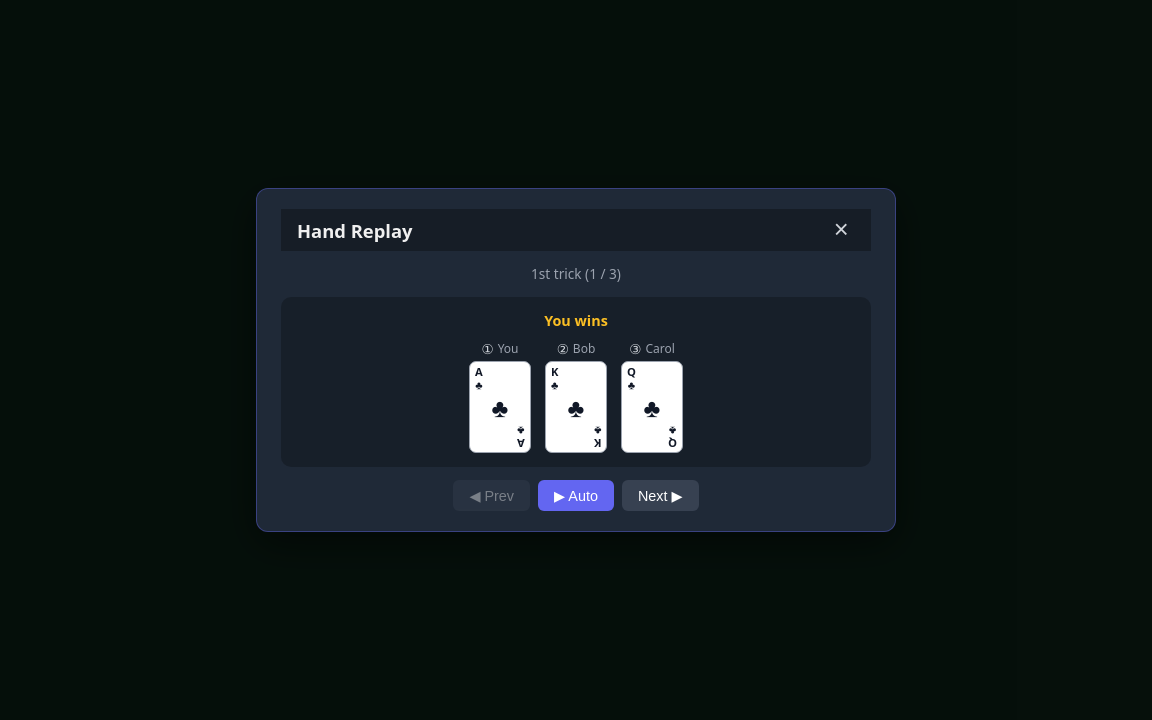
Test: HandReplay › shows the bury step after the last trick when bury prop is provided
Click the button with class "ctrl-btn" showing "Next ▶".
click(660, 496)  # box top-left (622, 480), bottom-right (699, 511)
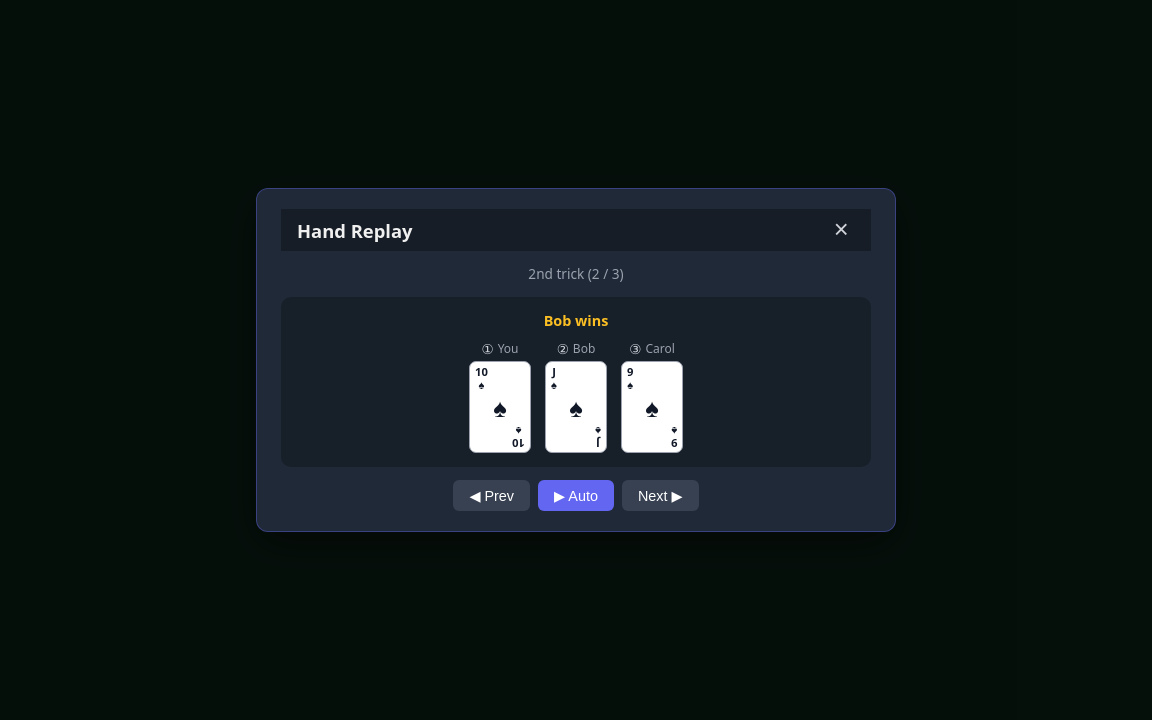
Click the button with class "ctrl-btn" showing "Next ▶".
click(660, 496)  # box top-left (622, 480), bottom-right (699, 511)
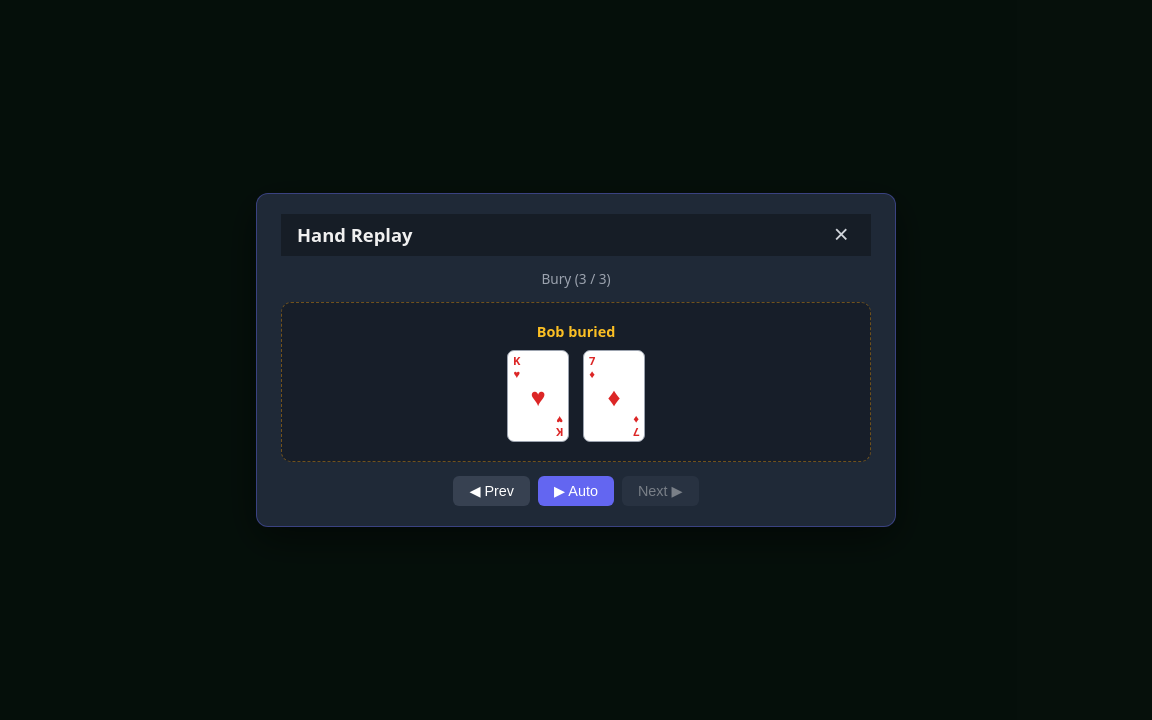
Expected: the text "Bury" is shown, top-left (541, 269), bottom-right (611, 288)
Expected: the text "3 / 3" is shown, top-left (541, 269), bottom-right (611, 288)
Expected: the text "Bob buried" is shown, top-left (537, 322), bottom-right (615, 341)
